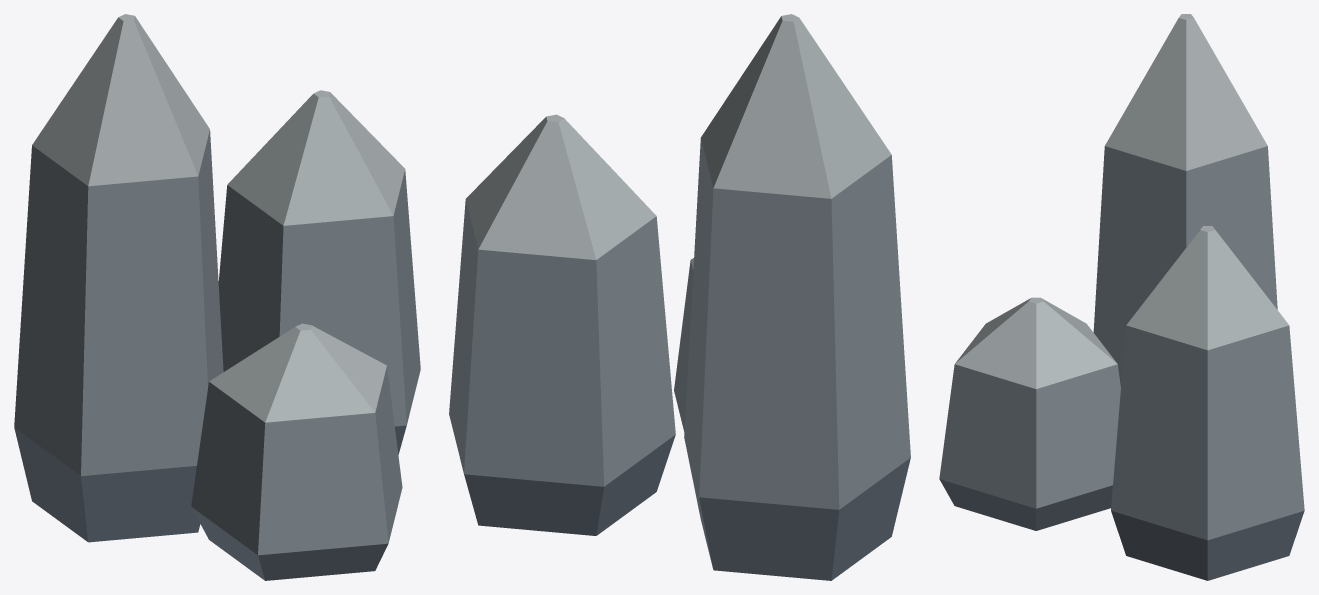
The model's file is ice-cluster.glb.
3 views of the same model, side by side, from view 1: azimuth 30°, elevation 25°; view 2: azimuth 150°, elevation 25°; view 3: azimuth 270°, elevation 25° (orthographic). The views are drawn at different scales.
Visible parts, largest first — view 1: ice-cluster__body; view 2: ice-cluster__body; view 3: ice-cluster__body.
Boxes of the visible parts, <box> form: ice-cluster__body: <box>14,14,420,580</box>; ice-cluster__body: <box>449,14,910,580</box>; ice-cluster__body: <box>939,14,1304,580</box>.
Bounding box in the file's own units: 0.7437 × 0.9 × 0.6814.
